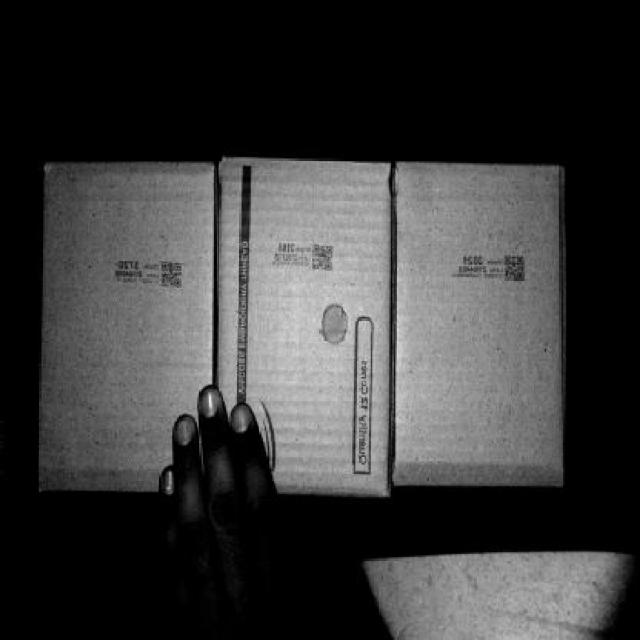cardboxes: (32, 155, 216, 503), (35, 162, 216, 502), (217, 163, 389, 485), (396, 153, 559, 484)
